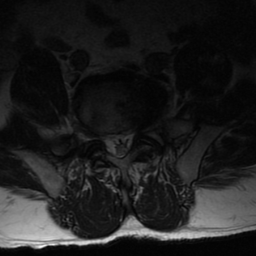CCS_normal: (113, 128, 124, 162)
LFS_severe_stenosis: (134, 123, 142, 142)
LLS_normal: (124, 127, 134, 154)
RFS_stenosis: (94, 125, 103, 150)
RLS_normal: (103, 129, 113, 156)
